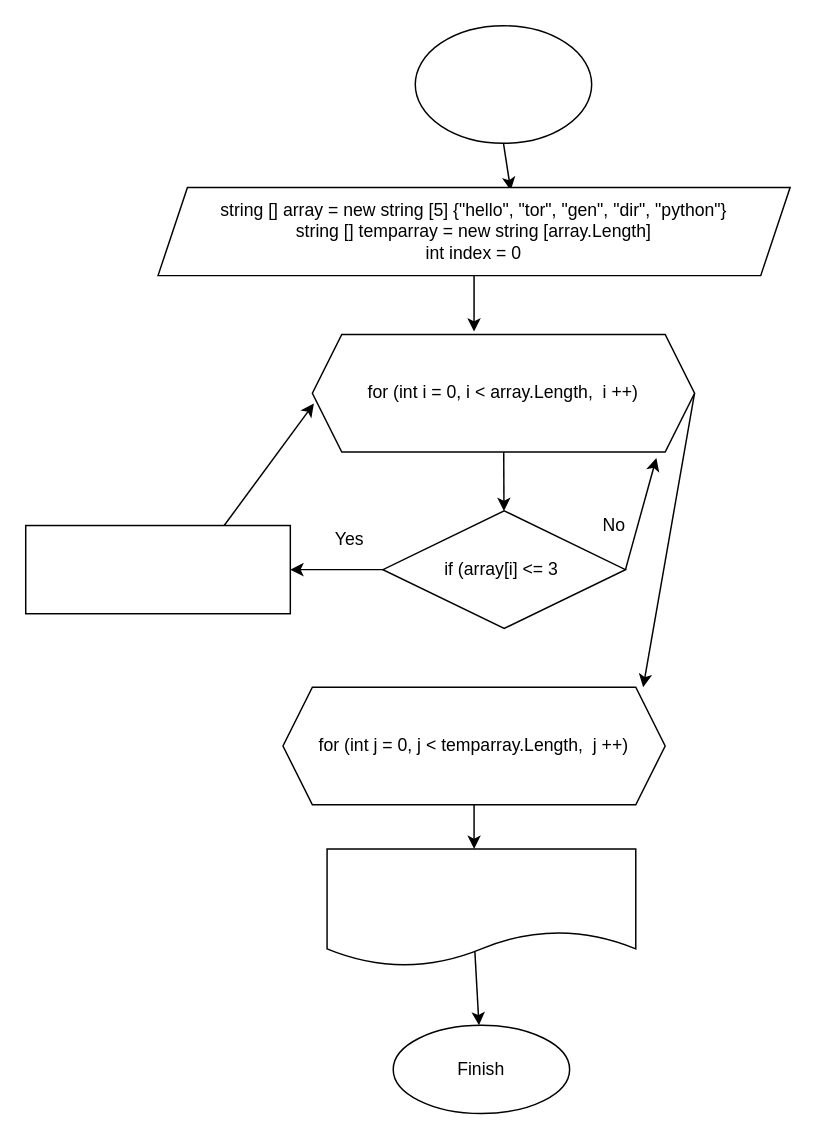
Image size: 816x1139. Some labels were removed from this diagram. Here are the shapes that lost their labels. From the top down, the box of each, then its label:
(414, 24, 592, 143): Start
(24, 524, 290, 614): temparray[index] = array[i] index += 1
(326, 847, 636, 967): Console.Write($"{temparray[j]} ")
